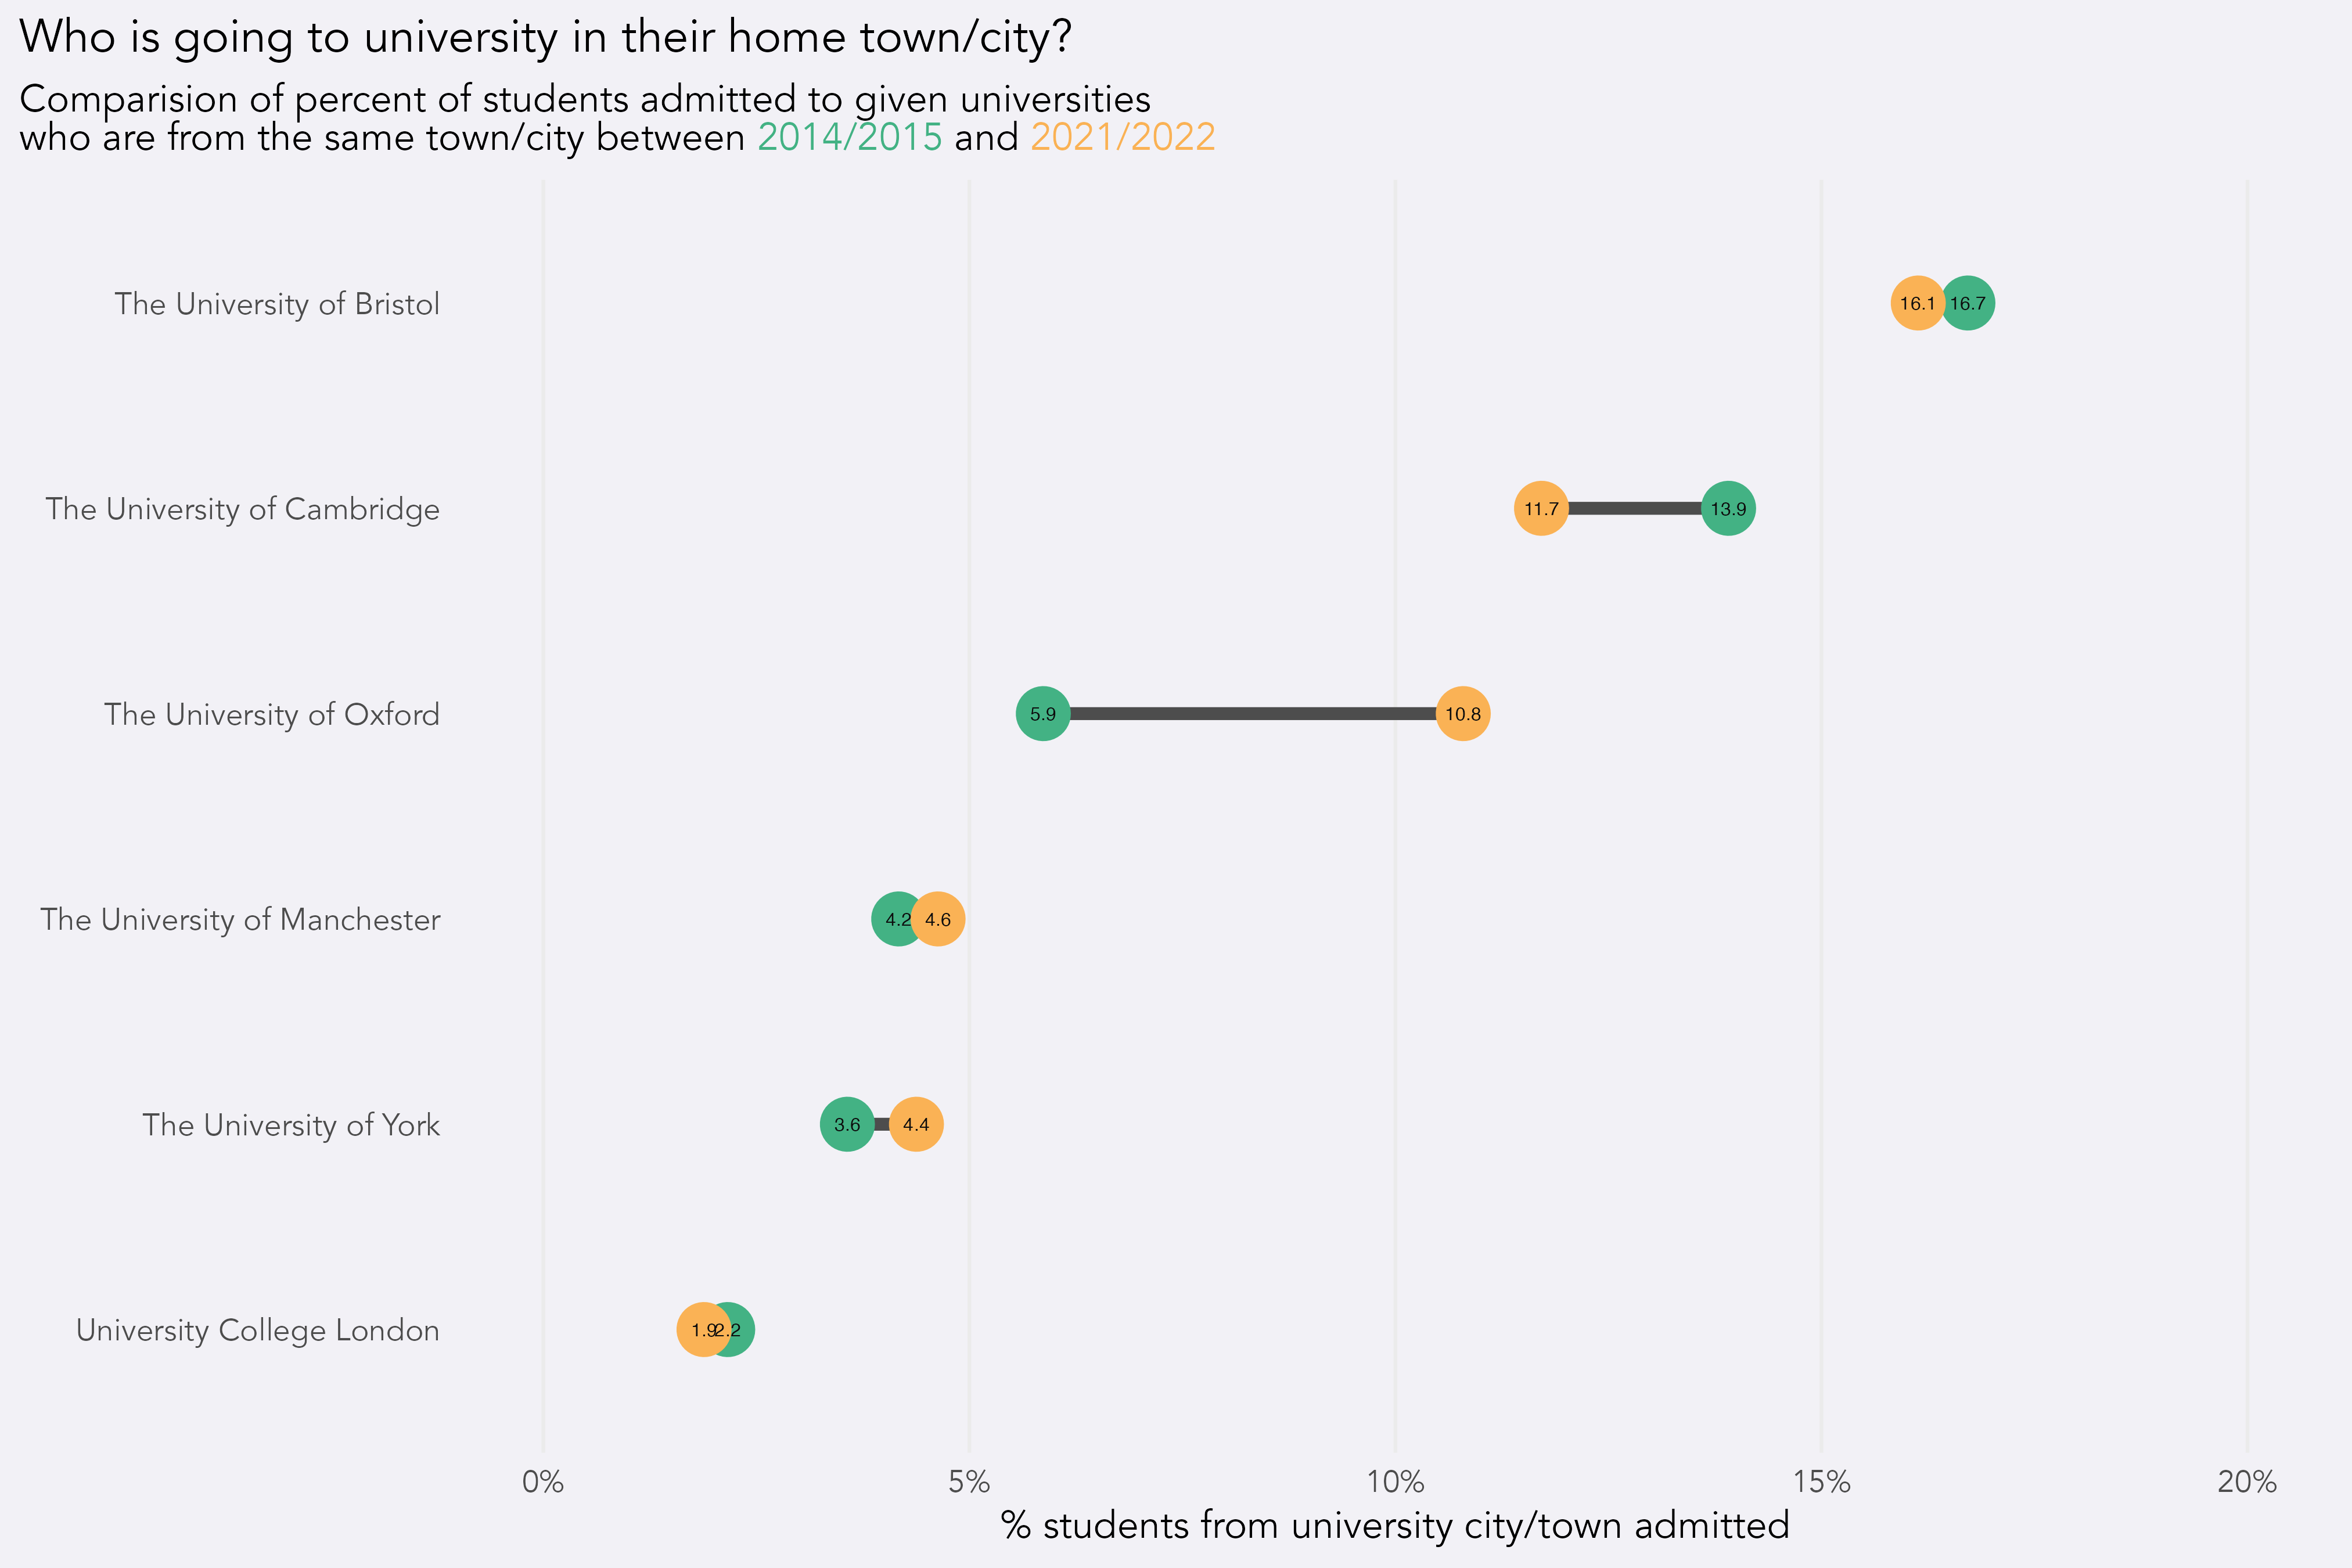

What the dashboard file says about the page in this screenshot:
{"tool":"tableau","page":{"name":"Dashboard 1","canvas":[1000,800],"ordinal":0},"visuals":[{"type":"worksheet","title":"dumbbell","mark":"Line","rows":["HE Provider"],"cols":["perc_home","perc_home"],"box":[8,8,952,784]},{"type":"legend","title":"dumbbell","param":"[federated.17v91540niik0n13eof5c1cn7kxv].[none:academic_year:nk]","box":[858,35,140,58]}]}

Visuals, with their boxes on the page's 1000x800 design canvas (x1, y1, x2, y2). These are canvas units, not pixel positions in the 2352x1568 screenshot, which may show the page scaled, cropped or inside an application window:
"dumbbell" worksheet (Line marks): bbox=(8, 8, 960, 792)
"dumbbell" legend: bbox=(858, 35, 998, 93)
